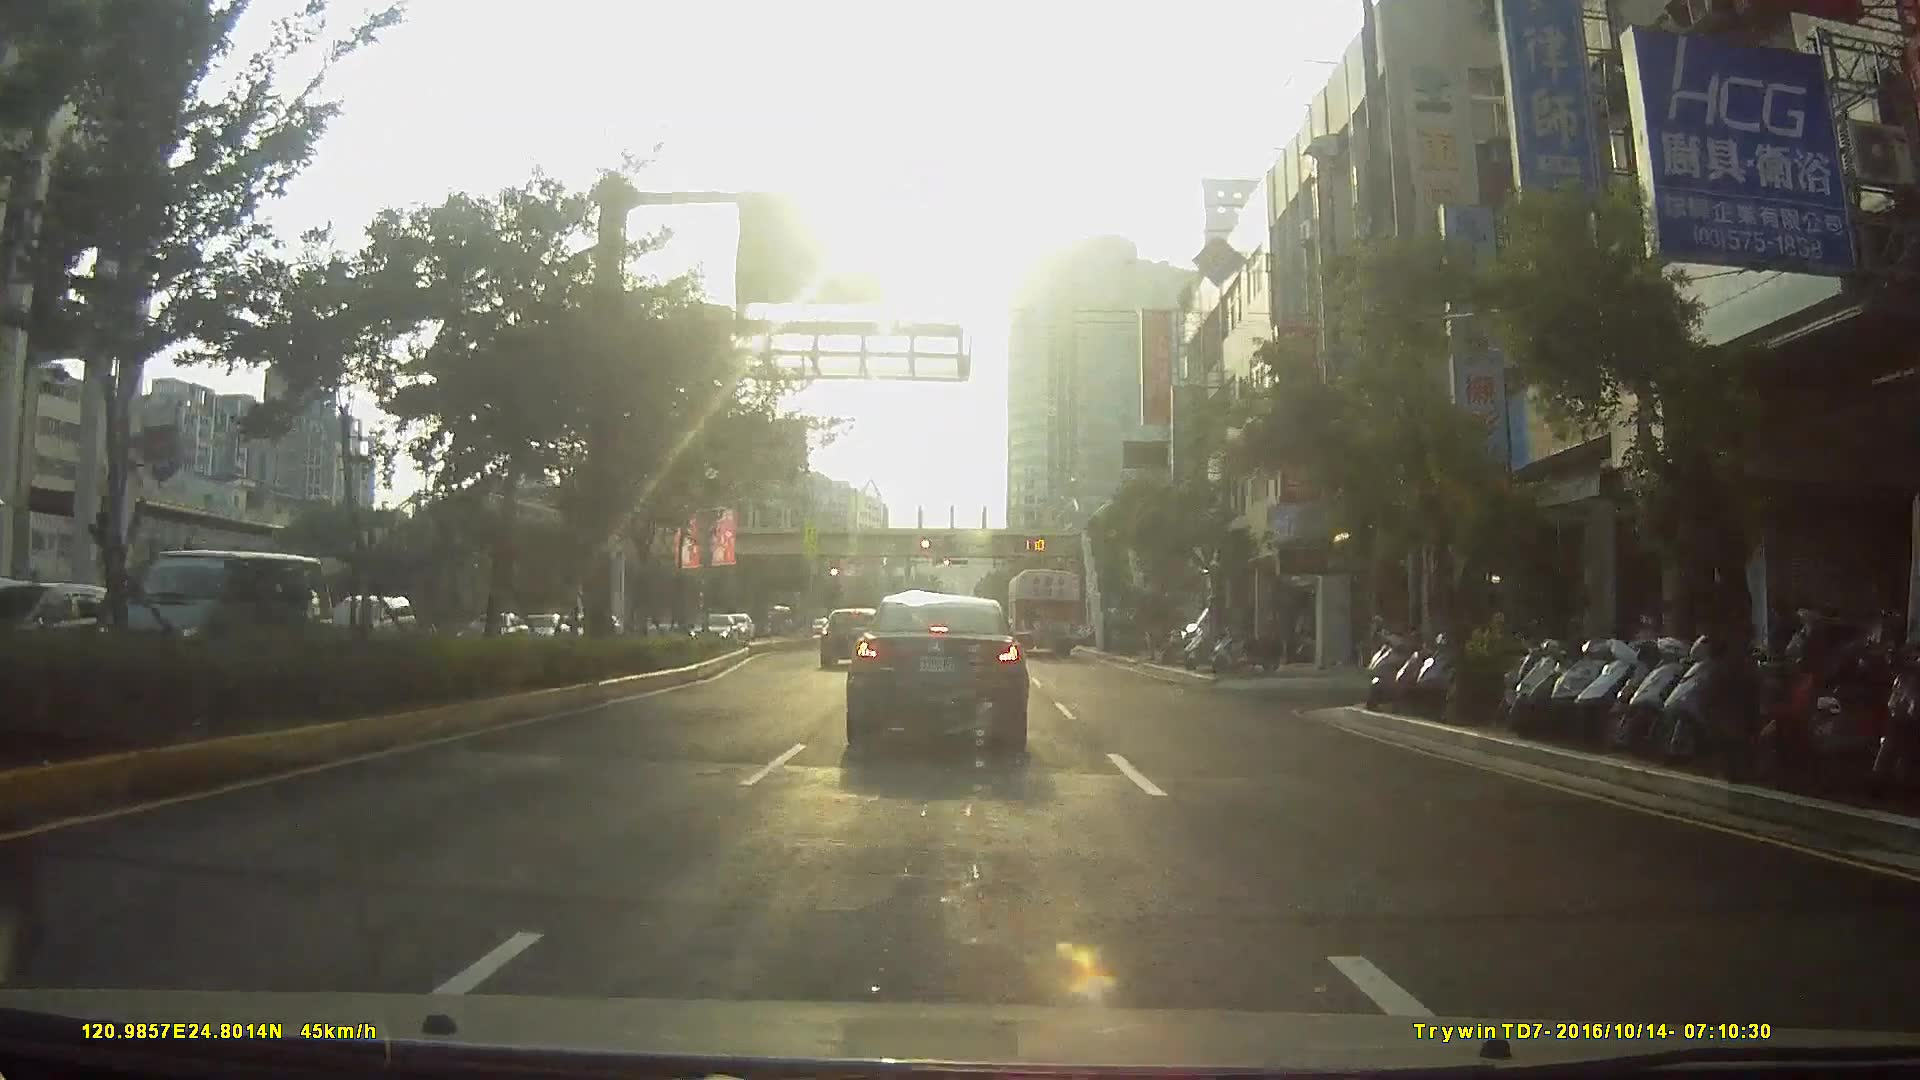vehicle: (66, 551, 306, 680), (844, 593, 1030, 756), (1004, 566, 1081, 659), (309, 596, 413, 659), (815, 607, 884, 674), (684, 613, 741, 651)
